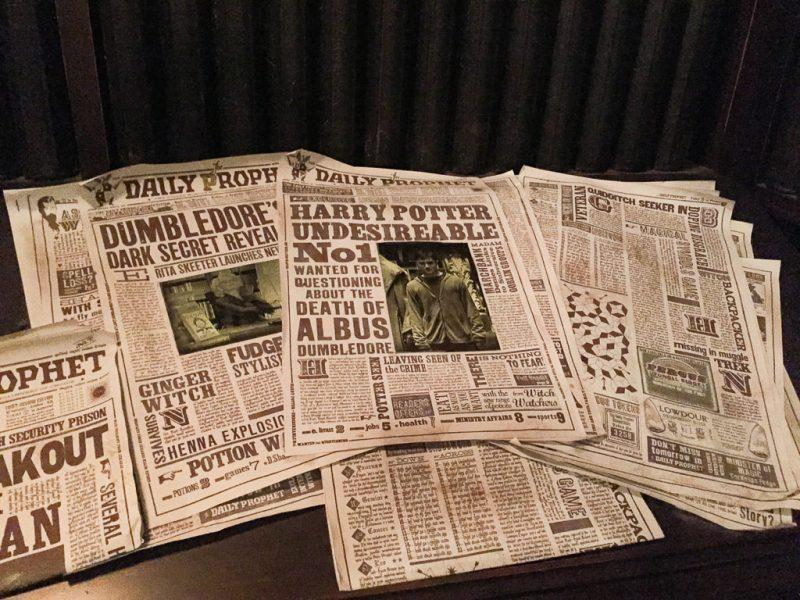paper: (0, 149, 800, 592)
